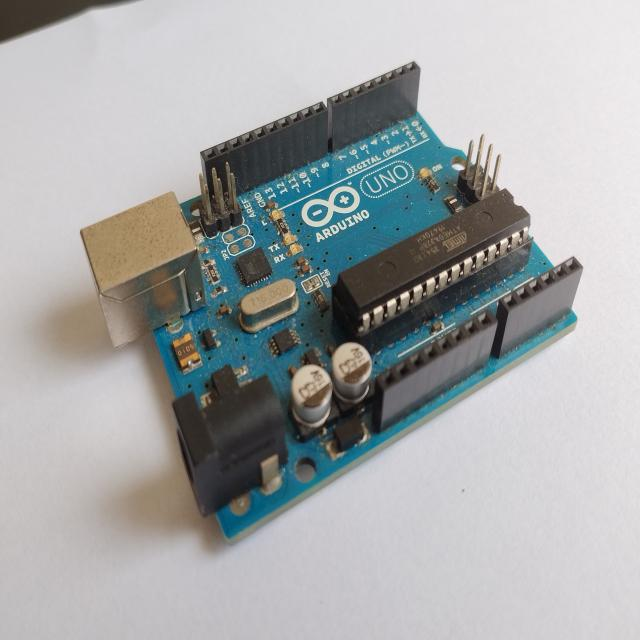arduino: (92, 65, 582, 553)
